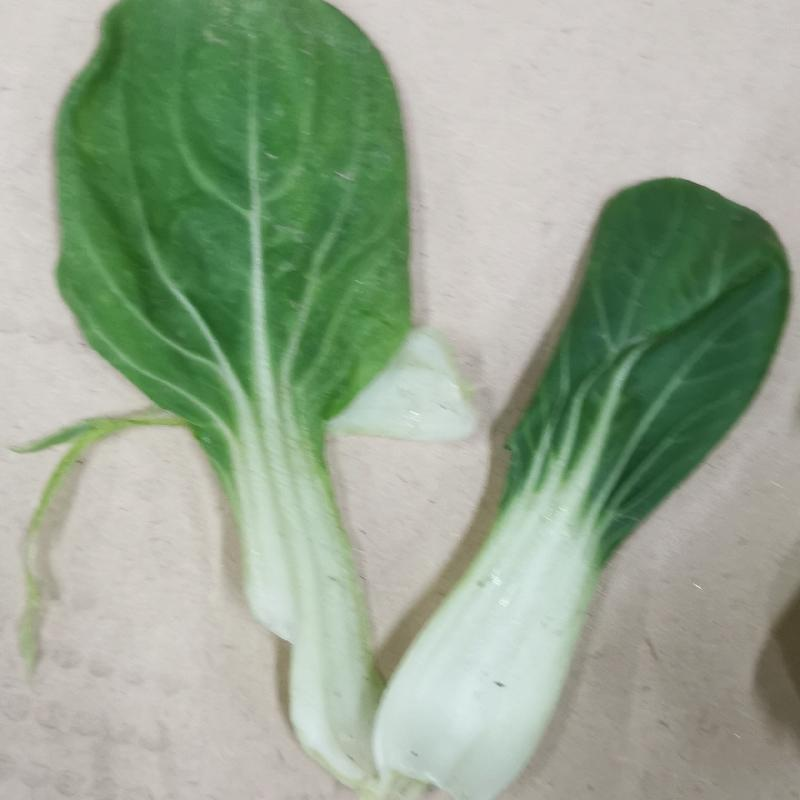green vegatable: (54, 1, 403, 781), (422, 165, 800, 800)
